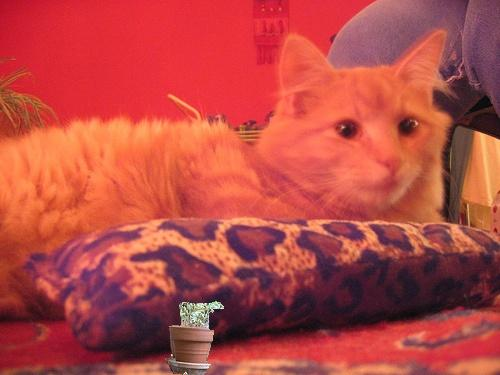tampered: (166, 302, 224, 375)
